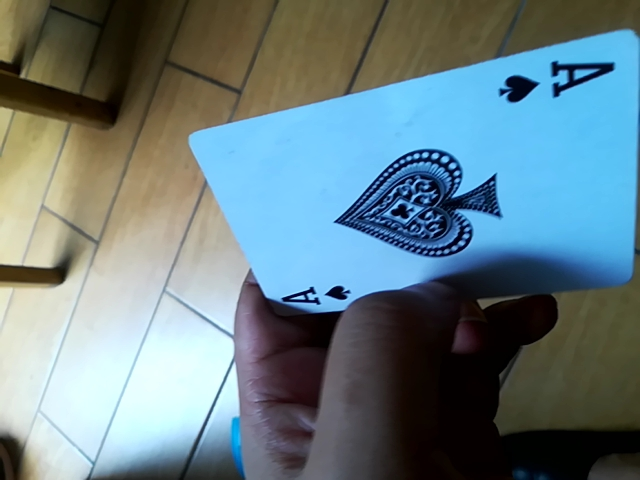ht a: (179, 33, 635, 318)
